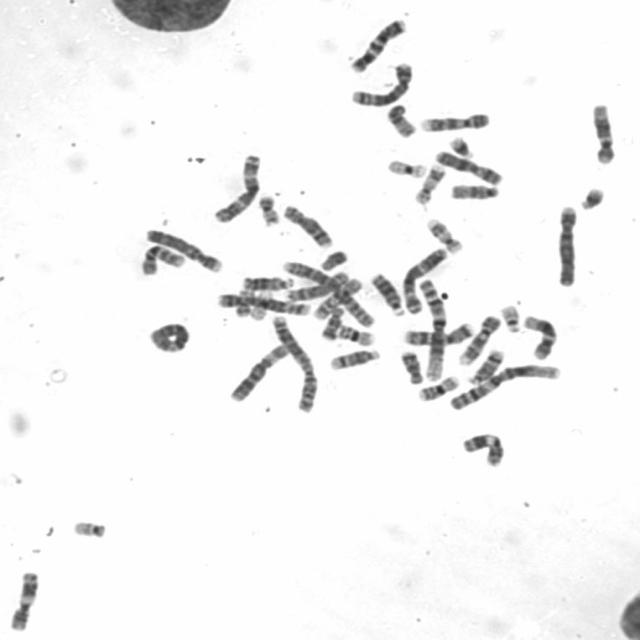A1: (446, 360, 564, 413), (415, 275, 449, 382)
A2: (280, 257, 378, 330), (268, 311, 322, 415)
A3: (210, 149, 262, 224), (398, 243, 450, 316)
B4: (142, 224, 226, 274), (552, 202, 581, 288)
B5: (348, 59, 414, 108), (213, 290, 314, 317)
C10: (311, 276, 364, 320), (137, 240, 186, 278)
C11: (5, 567, 41, 632), (458, 428, 507, 468)
C12: (587, 98, 618, 166), (520, 311, 560, 361)
C6: (226, 340, 292, 403), (146, 319, 192, 354)
C7: (346, 15, 408, 74), (400, 318, 478, 347)
C8: (280, 200, 336, 248), (282, 268, 350, 302)
C9: (453, 310, 502, 366), (418, 108, 493, 133)
D13: (367, 269, 406, 316), (238, 270, 296, 292)
D14: (466, 345, 506, 386), (324, 344, 382, 372)
D15: (382, 101, 418, 139), (446, 180, 502, 202)
E16: (414, 372, 462, 402), (334, 320, 377, 348)
E17: (422, 214, 464, 255), (410, 161, 446, 205)
E18: (395, 345, 425, 384), (316, 303, 346, 342)
F19: (383, 156, 428, 180), (246, 291, 272, 321)
F20: (255, 192, 280, 226), (233, 286, 257, 318)
G21: (576, 182, 608, 212), (446, 132, 476, 160)
G22: (67, 515, 108, 540), (497, 300, 524, 334)
X: (432, 147, 504, 186)
Y: (316, 247, 350, 272)
